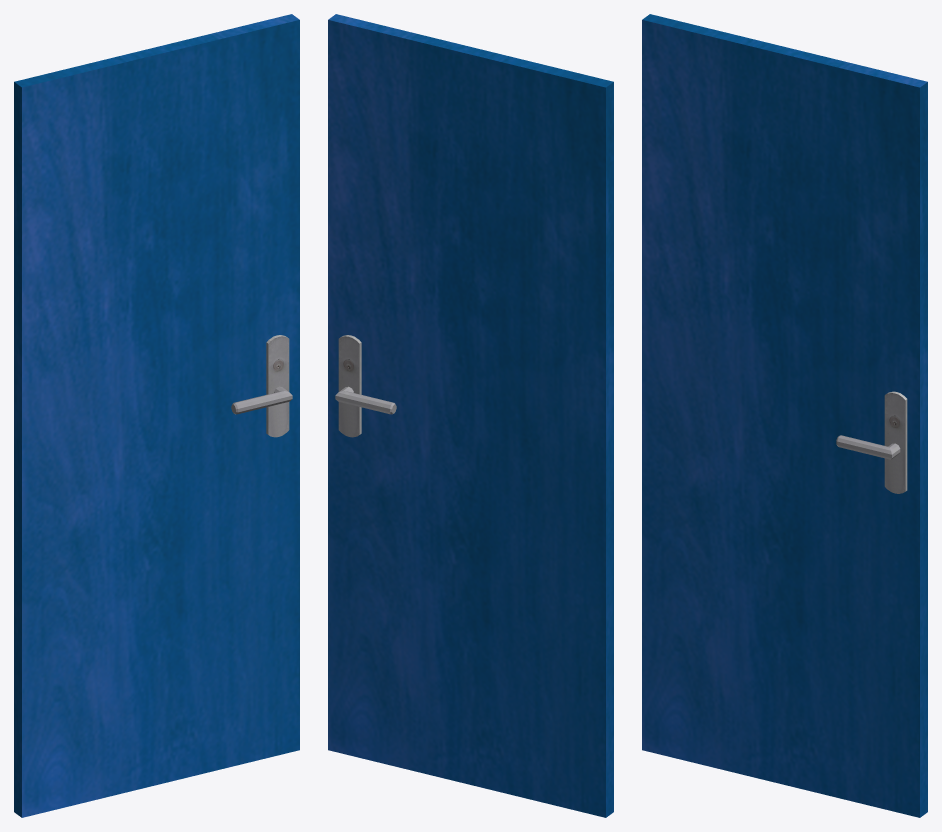
The model's file is Door_int.fbx.
The picture shows the model from 3 angles, left to right: view 1: azimuth 30°, elevation 25°; view 2: azimuth 150°, elevation 25°; view 3: azimuth 330°, elevation 25°; orthographic projection.
Visible parts, largest first — view 1: porte_basique, Cylinder; view 2: porte_basique, Cylinder; view 3: porte_basique, Cylinder.
Part boxes in pixels (x1,y1,x2,y2): porte_basique: [14, 14, 299, 817]; Cylinder: [231, 386, 292, 414]; porte_basique: [328, 14, 613, 817]; Cylinder: [335, 386, 396, 414]; porte_basique: [642, 14, 927, 817]; Cylinder: [836, 435, 900, 459].
Size of the model in its own units: 80.95 by 203 by 14.55.
